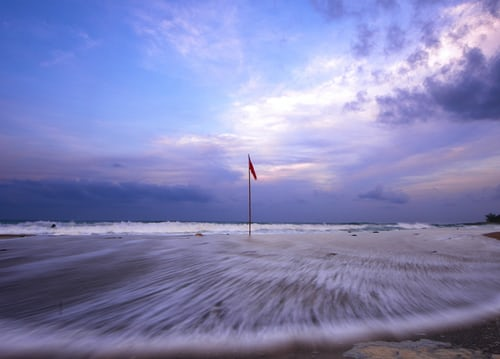Flag: (249, 155, 257, 179)
